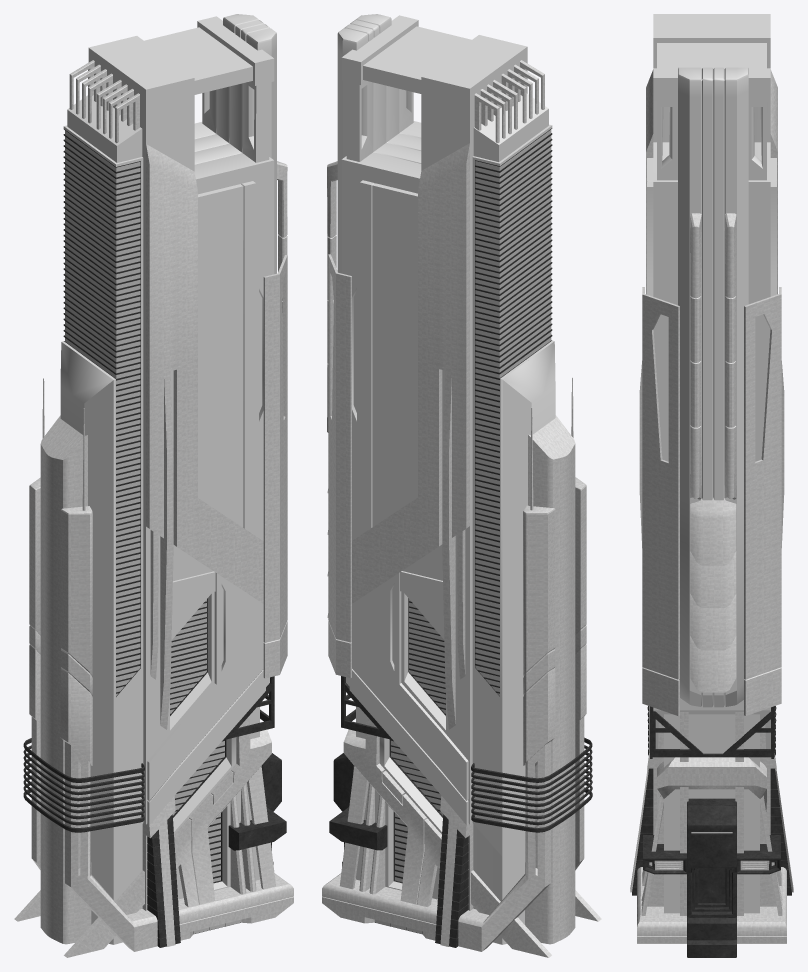
Rendered from KB3D_UTP_BldgLG_I.fbx.
3 views of the same model, side by side, from view 1: azimuth 30°, elevation 25°; view 2: azimuth 150°, elevation 25°; view 3: azimuth 270°, elevation 25° (orthographic). The views are drawn at different scales.
Parts seen in each view (by area): view 1: KB3D_UTP_BldgLG_I_Main; view 2: KB3D_UTP_BldgLG_I_Main; view 3: KB3D_UTP_BldgLG_I_Main.
Boxes of the visible parts, x1,y1,x2,y2 form: KB3D_UTP_BldgLG_I_Main: [14, 14, 293, 957]; KB3D_UTP_BldgLG_I_Main: [322, 14, 601, 957]; KB3D_UTP_BldgLG_I_Main: [630, 14, 793, 957].
Size of the model in its own units: 15883 by 54399 by 9167.
